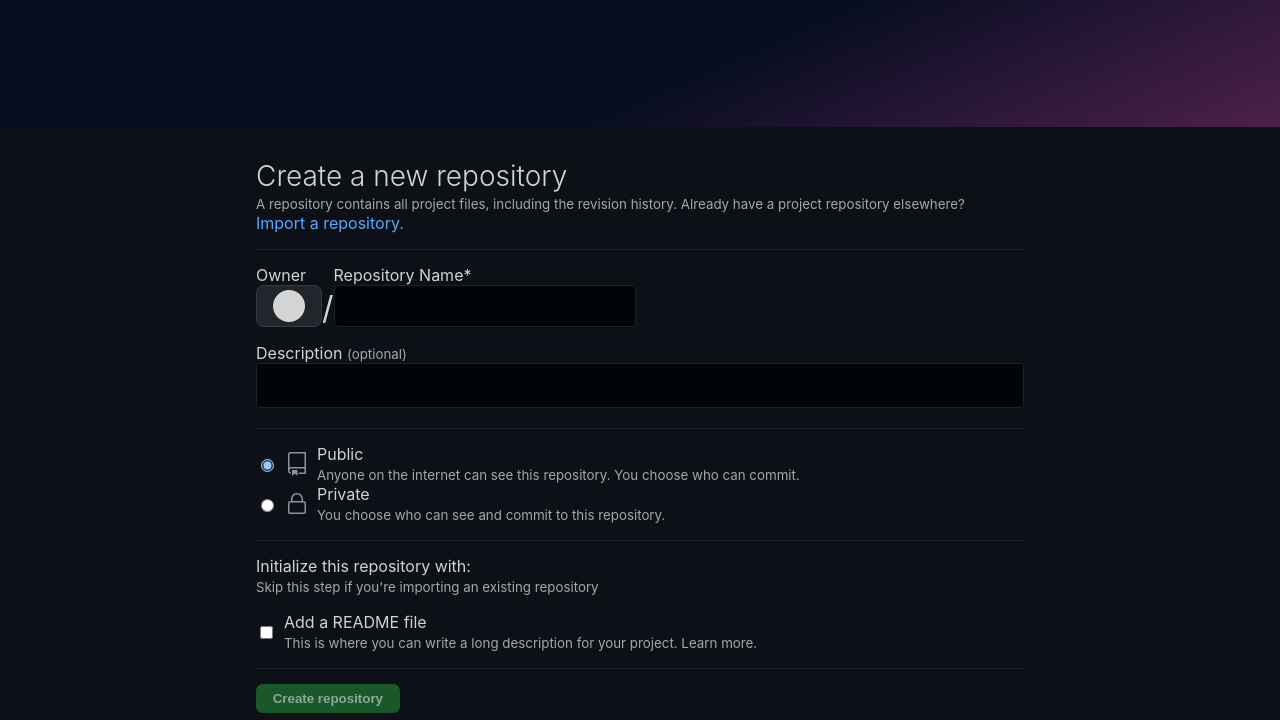
Scenario: Create repository page › Create repository button enables
(page scrolled)
Type "testRepo" into the field labelled "Repository Name*" at (485, 306), box [334,285,636,327]
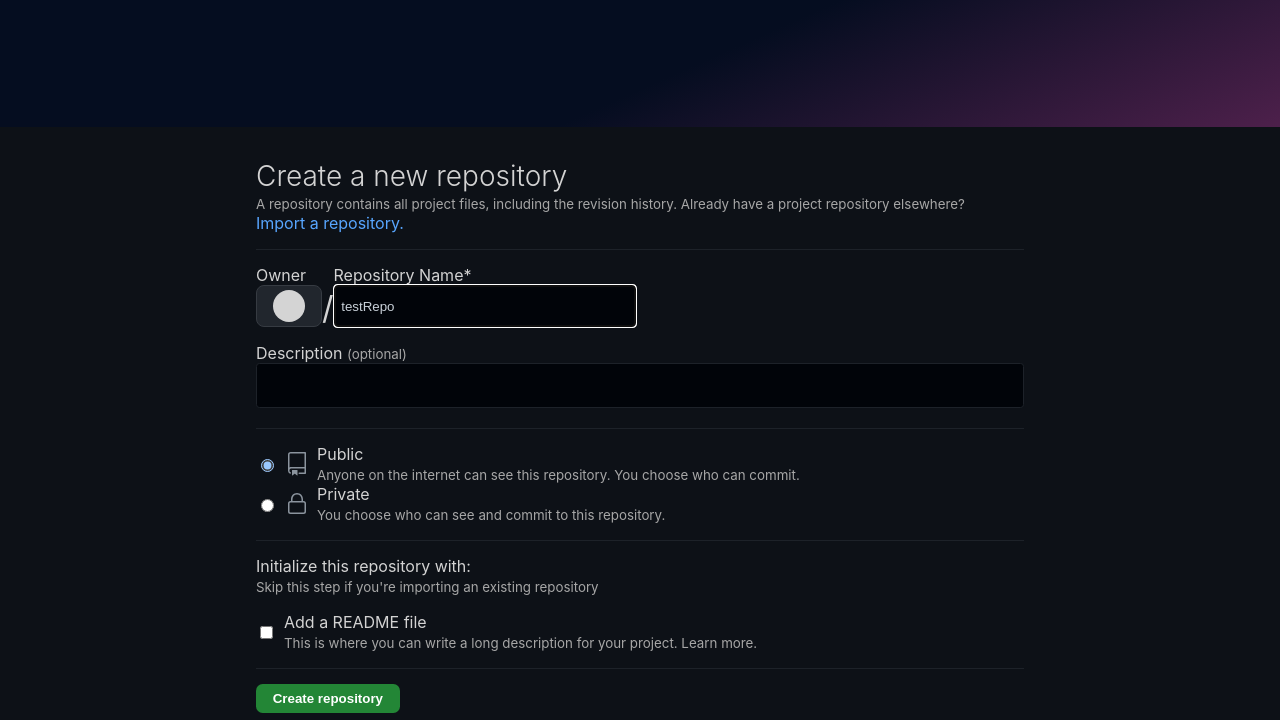
Result: the button "Create repository" is enabled at [256,684,400,713]
